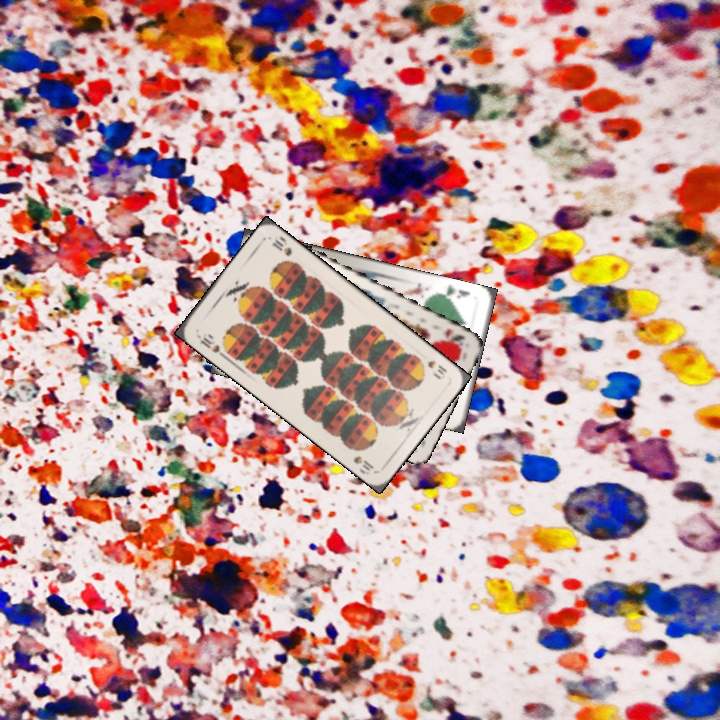GK: (438, 281, 472, 301)
HK: (440, 324, 467, 345)
S10: (414, 353, 450, 382), (196, 330, 227, 360)
